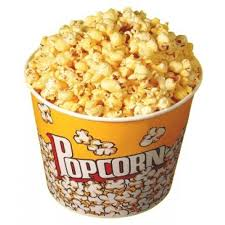popcorn: (27, 7, 208, 219)
